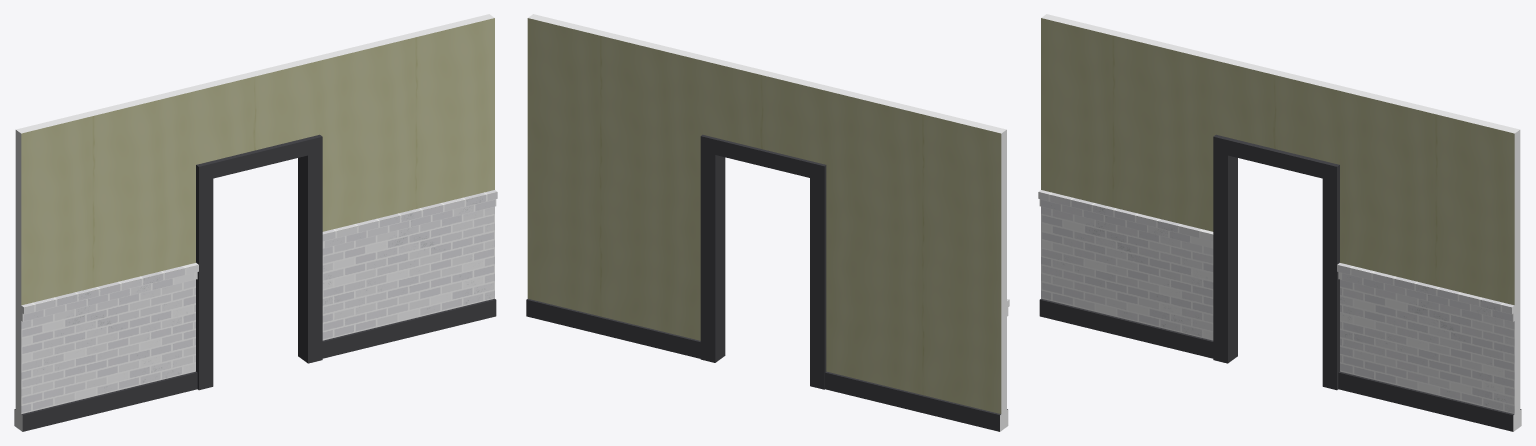
The model's file is SM_Buildings_WallDoor_5x3_01_WallpaperBack.fbx.
3 renders of one model, left to right at view 1: azimuth 30°, elevation 25°; view 2: azimuth 150°, elevation 25°; view 3: azimuth 330°, elevation 25°, orthographic.
Visible parts, largest first — view 1: SM_Buildings_WallDoor_5x3_01_WallpaperBack; view 2: SM_Buildings_WallDoor_5x3_01_WallpaperBack; view 3: SM_Buildings_WallDoor_5x3_01_WallpaperBack.
Boxes of the visible parts, x1,y1,x2,y2 form: SM_Buildings_WallDoor_5x3_01_WallpaperBack: [14, 14, 497, 431]; SM_Buildings_WallDoor_5x3_01_WallpaperBack: [526, 14, 1009, 431]; SM_Buildings_WallDoor_5x3_01_WallpaperBack: [1038, 14, 1521, 431].
Bounding box in the file's own units: 500 × 300 × 18.64.
Materials: 1 (1 with a texture image).
